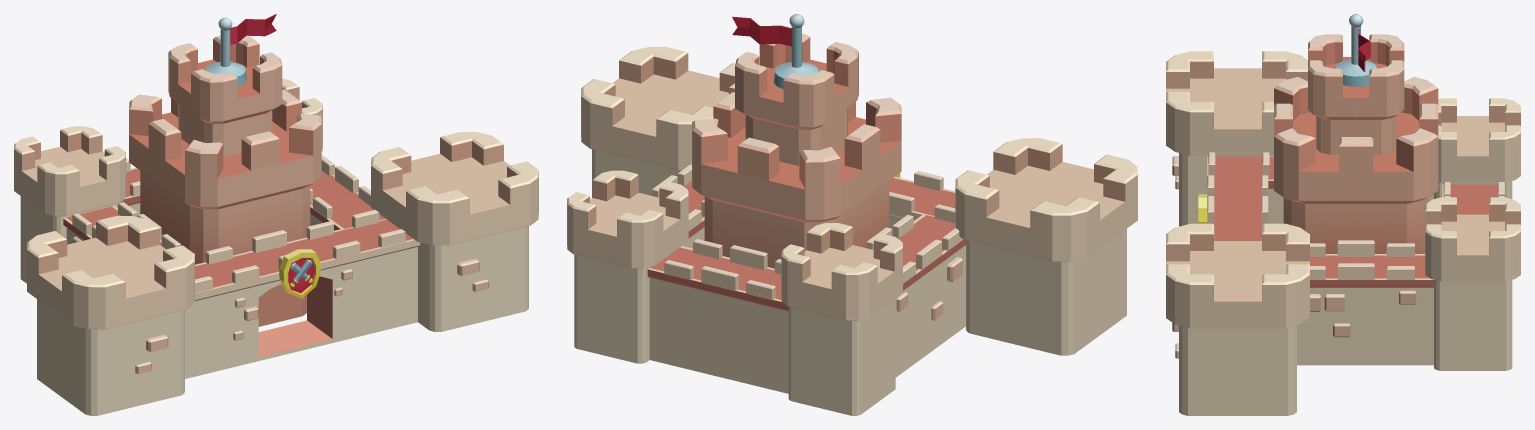
The model's file is Castle 1.FBX.
3 renders of one model, left to right at view 1: azimuth 30°, elevation 25°; view 2: azimuth 150°, elevation 25°; view 3: azimuth 270°, elevation 25°, orthographic. The views are drawn at different scales.
Visible parts, largest first — view 1: Castle; view 2: Castle; view 3: Castle.
Boxes of the visible parts, <box> form: Castle: <box>14,14,538,415</box>; Castle: <box>567,14,1137,415</box>; Castle: <box>1166,14,1520,415</box>.
Size of the model in its own units: 219 by 127 by 141.
